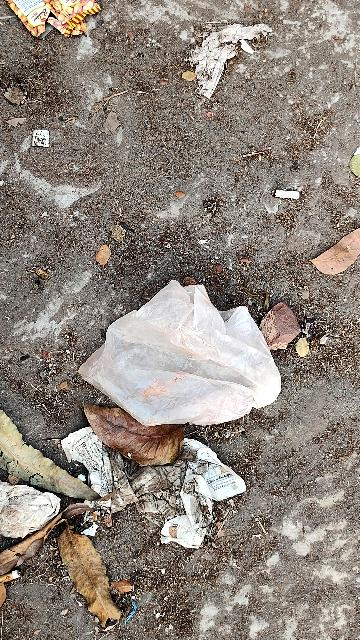polythene: (108, 293, 283, 429)
